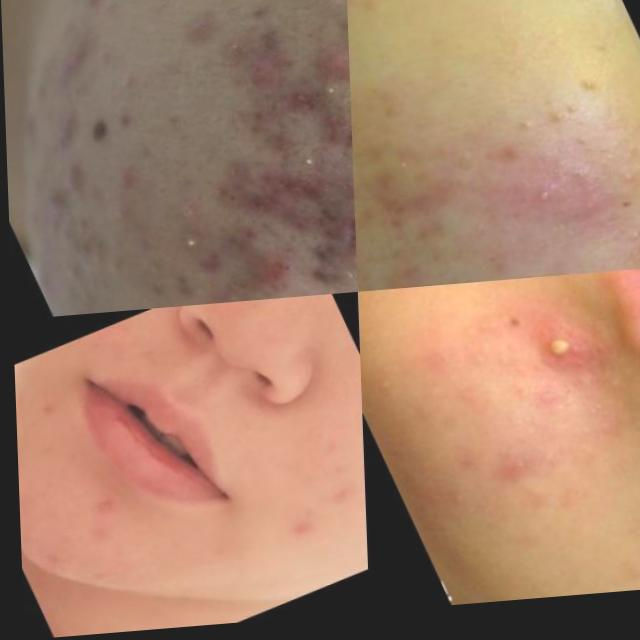8: (472, 440, 554, 511), (562, 197, 616, 244), (75, 483, 125, 533), (520, 189, 561, 223)
9: (509, 316, 603, 407)
blackheads: (182, 111, 354, 308), (267, 40, 350, 164), (359, 180, 449, 242), (373, 260, 434, 297)
dark spot: (231, 56, 286, 110), (132, 173, 185, 220)
